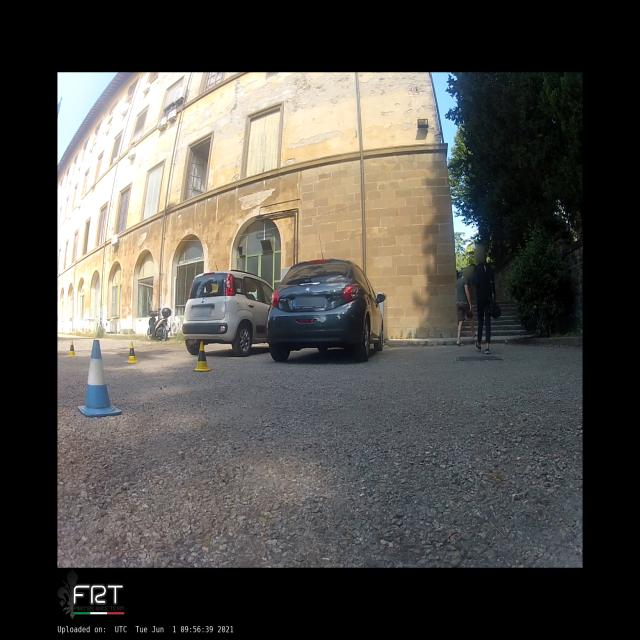blue_cone: (77, 340, 122, 416)
yellow_cone: (193, 341, 212, 371), (126, 342, 139, 363), (68, 340, 76, 357)
